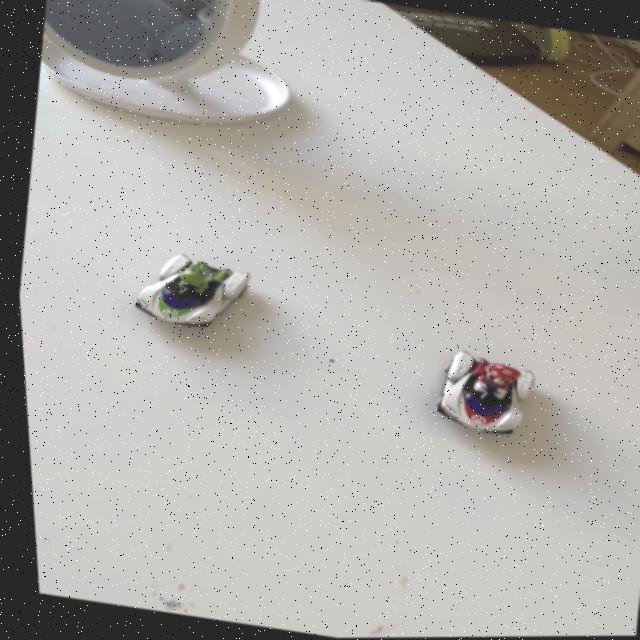mario: (407, 337, 546, 451)
yoshi: (105, 236, 269, 346)
